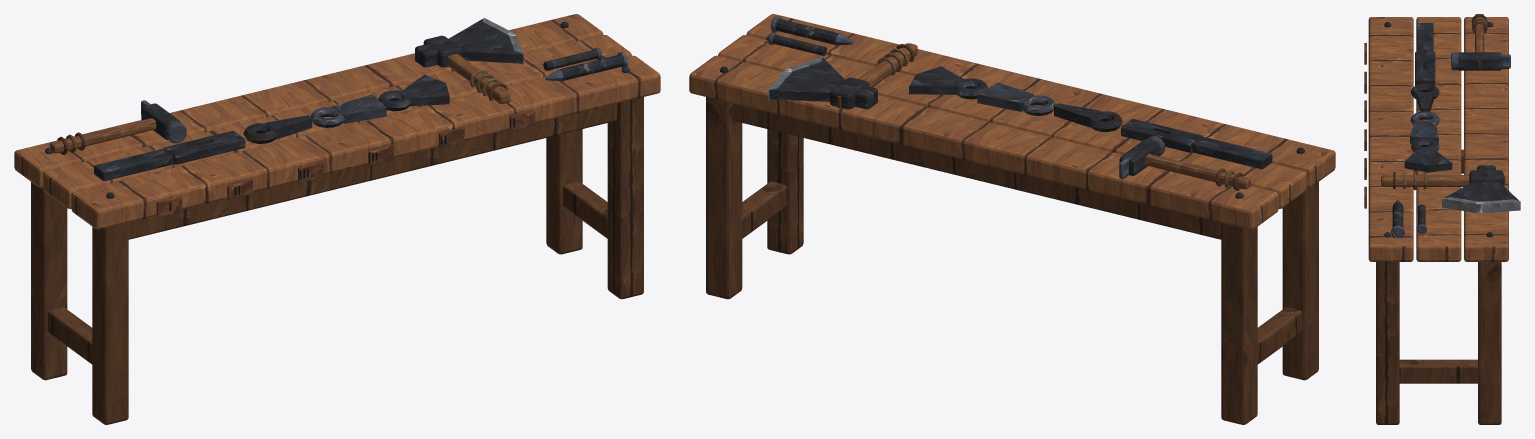
The model's file is ef_axe_progression.glb.
3 renders of one model, left to right at view 1: azimuth 30°, elevation 25°; view 2: azimuth 150°, elevation 25°; view 3: azimuth 270°, elevation 25°, orthographic. The views are drawn at different scales.
Visible parts, largest first — view 1: model; view 2: model; view 3: model.
Part boxes in pixels (bbox=[...]): model: bbox=[14, 14, 660, 424]; model: bbox=[689, 14, 1335, 424]; model: bbox=[1364, 14, 1520, 424].
Bounding box in the file's own units: 1.6 × 0.6508 × 0.4595.
10 materials, 9 textured.
